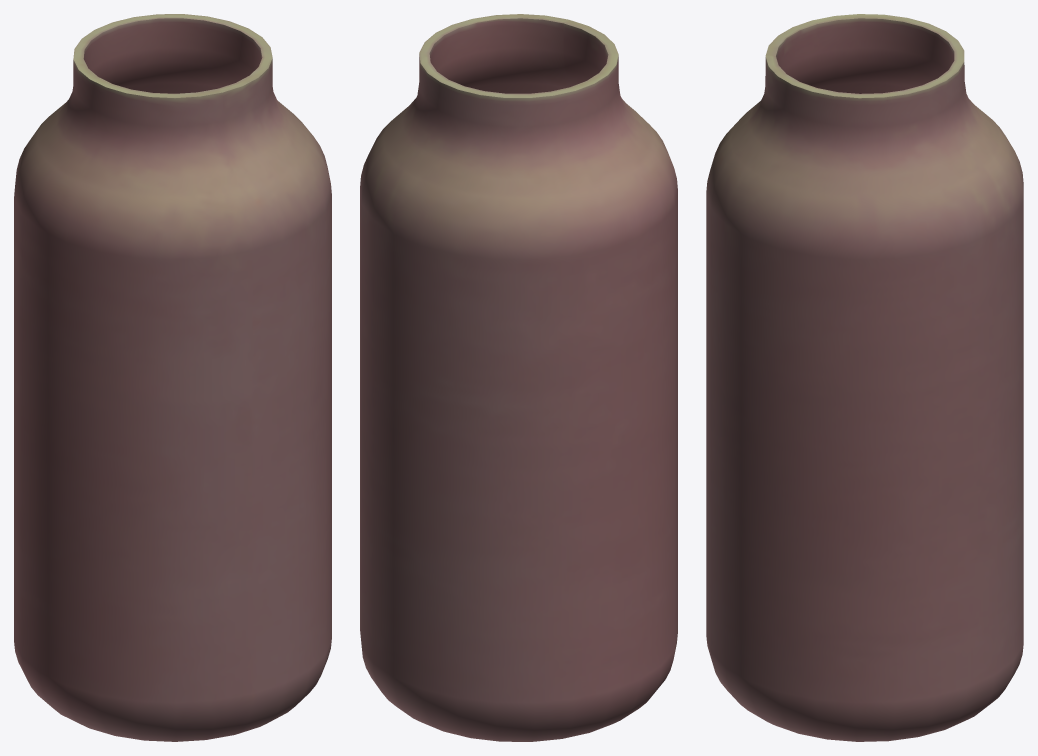
The model's file is SM_FlowerPot_03.fbx.
3 renders of one model, left to right at view 1: azimuth 30°, elevation 25°; view 2: azimuth 150°, elevation 25°; view 3: azimuth 270°, elevation 25°, orthographic.
Visible parts, largest first — view 1: SM_FlowerPot_03_LOD0; view 2: SM_FlowerPot_03_LOD0; view 3: SM_FlowerPot_03_LOD0.
Part boxes in pixels (x1,y1,x2,y2): SM_FlowerPot_03_LOD0: (14,14,331,741); SM_FlowerPot_03_LOD0: (360,14,677,741); SM_FlowerPot_03_LOD0: (706,14,1023,741).
Size of the model in its own units: 20.42 by 20.38 by 45.2.
1 material, 1 textured.
